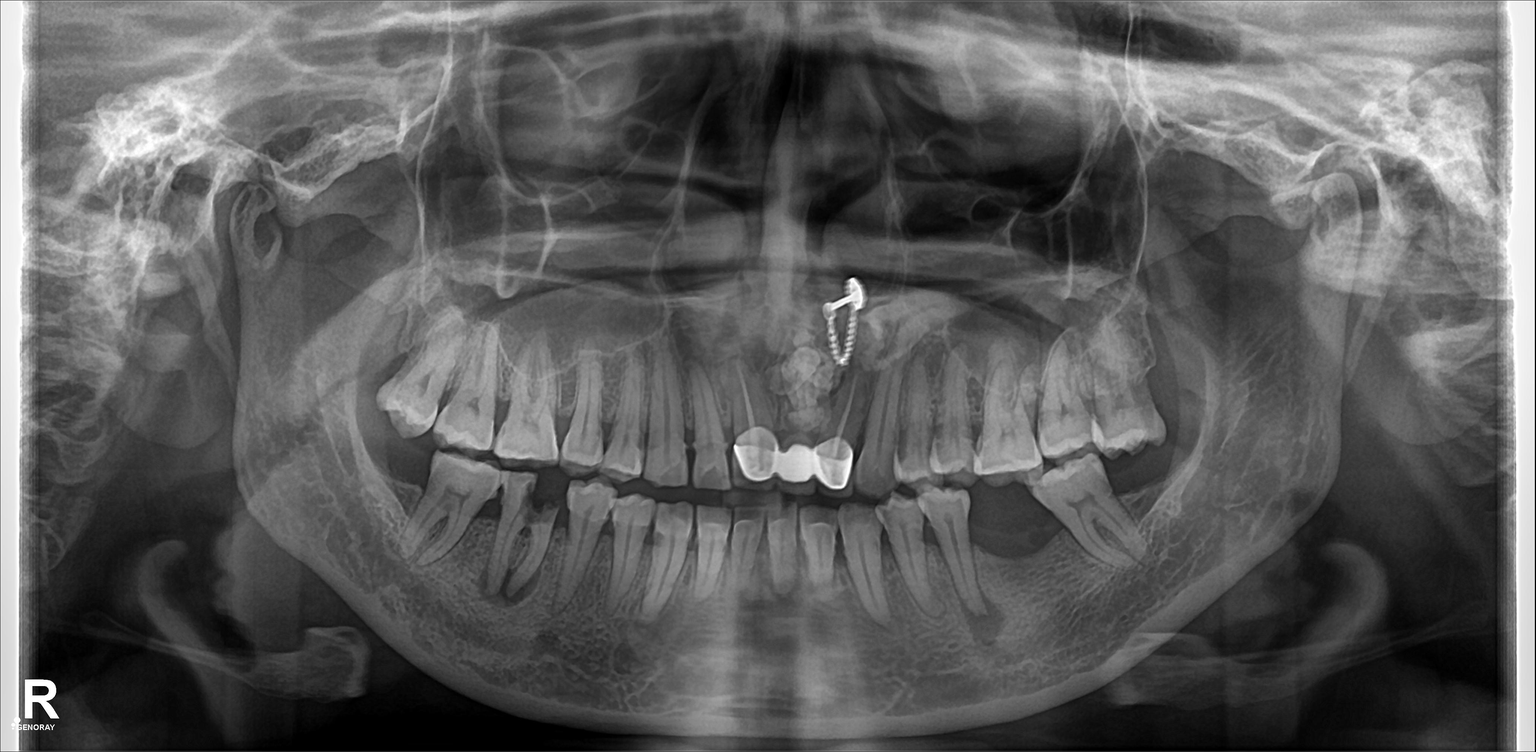Dental Caries: (531, 475, 566, 517)
Endodontically Treated Tooth: (723, 346, 779, 487), (777, 341, 824, 478), (827, 352, 860, 486)
Missing Tooth: (970, 486, 1049, 594), (1153, 307, 1208, 434), (367, 441, 422, 533), (1114, 454, 1180, 529)
Periapical Lesion: (490, 512, 550, 603)
